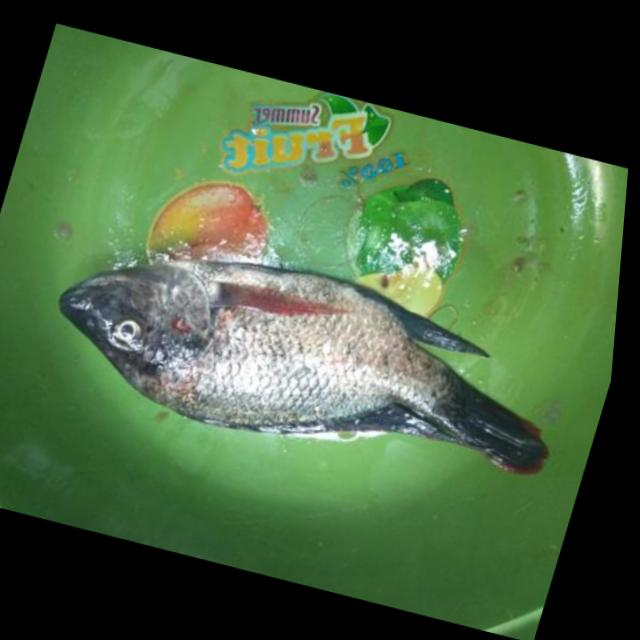Tilapia: (23, 209, 596, 511)
